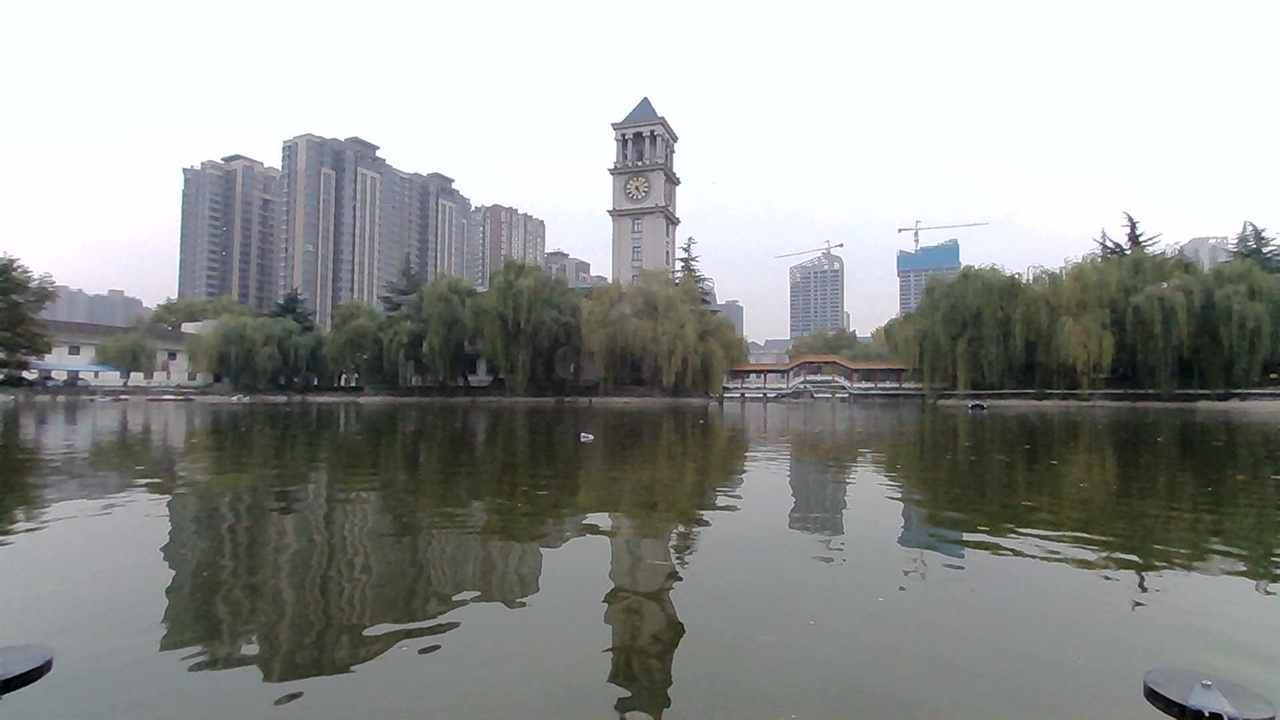bottle: (563, 416, 615, 454)
